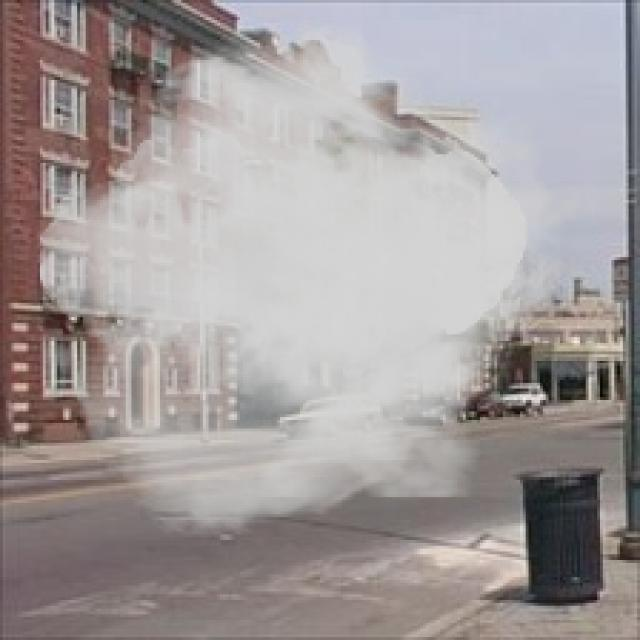Smoke: (37, 14, 583, 543)
